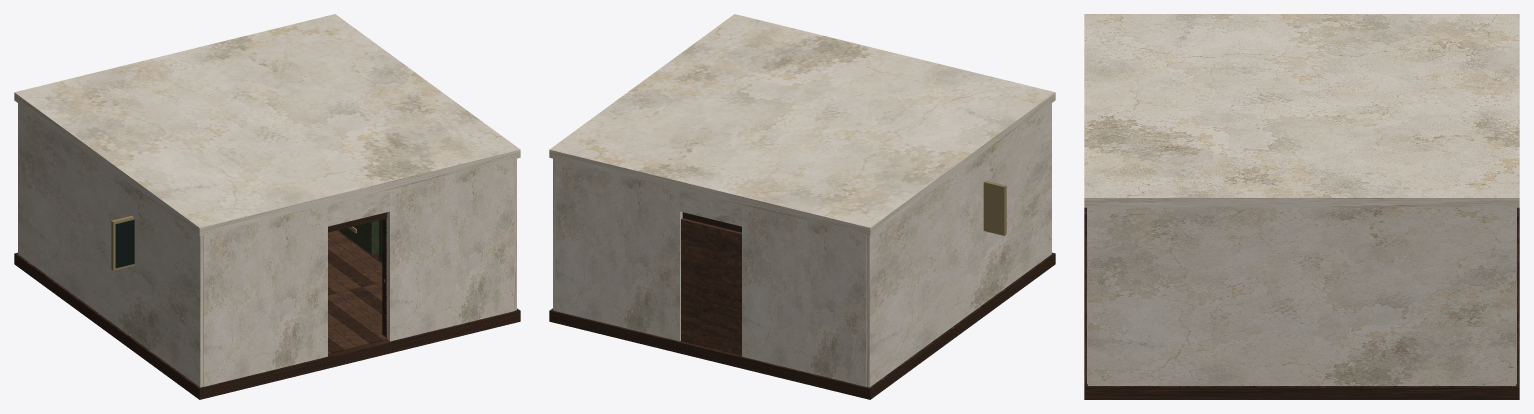
Rendered from archive.glb.
3 renders of one model, left to right at view 1: azimuth 30°, elevation 25°; view 2: azimuth 150°, elevation 25°; view 3: azimuth 270°, elevation 25°, orthographic. The views are drawn at different scales.
Visible parts, largest first — view 1: ceiling, part_72, part_111, part_108, floor, part_114, picture_surface, file_cabinet, part_44, part_55, part_41, part_58 (+5 smaller); view 2: ceiling, part_72, part_101, part_98, exit_door, floor, part_104, frame, part_85; view 3: ceiling, part_85, floor.
Boxes of the visible parts, x1,y1,x2,y2 form: ceiling: (14, 14, 520, 235); part_72: (18, 103, 203, 387); part_111: (386, 159, 514, 341); part_108: (203, 205, 327, 386); floor: (14, 252, 520, 399); part_114: (328, 189, 389, 226); picture_surface: (115, 220, 134, 268); file_cabinet: (338, 220, 378, 254); part_44: (328, 293, 387, 341); part_55: (328, 237, 382, 283); part_41: (328, 300, 382, 344); part_58: (329, 234, 382, 276); ceiling: (549, 14, 1055, 235); part_72: (866, 103, 1051, 387); part_101: (555, 159, 682, 341); part_98: (742, 205, 866, 386); exit_door: (681, 218, 741, 355); floor: (549, 252, 1055, 399); part_104: (680, 189, 741, 226); frame: (983, 180, 1006, 235); part_85: (553, 158, 555, 310); ceiling: (1084, 14, 1519, 207); part_85: (1088, 207, 1515, 385); floor: (1084, 207, 1519, 399).
Bounding box in the file's own units: 6.56 × 3.18 × 6.2.
8 materials, 4 textured.
